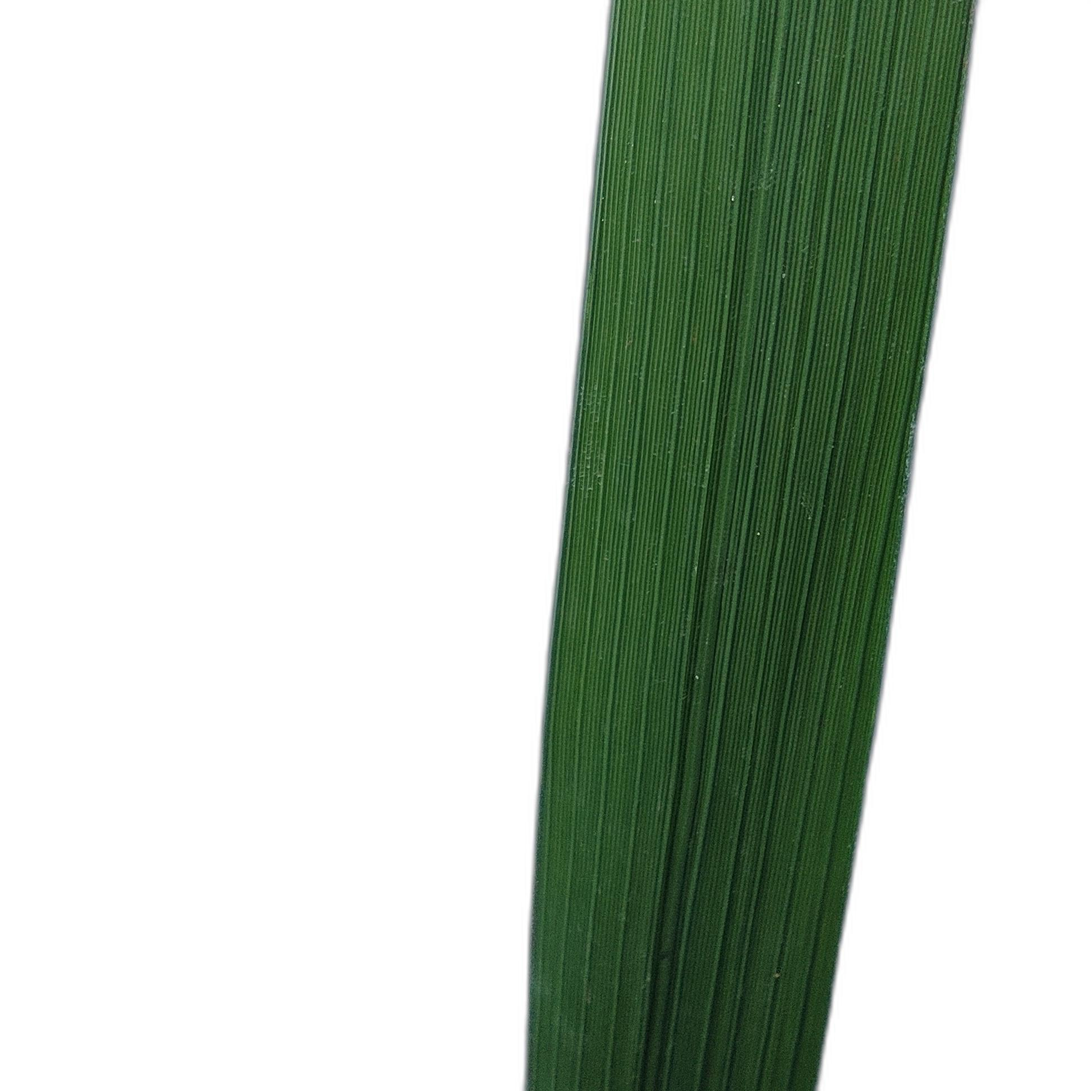Healthy: (527, 1, 975, 1090)
